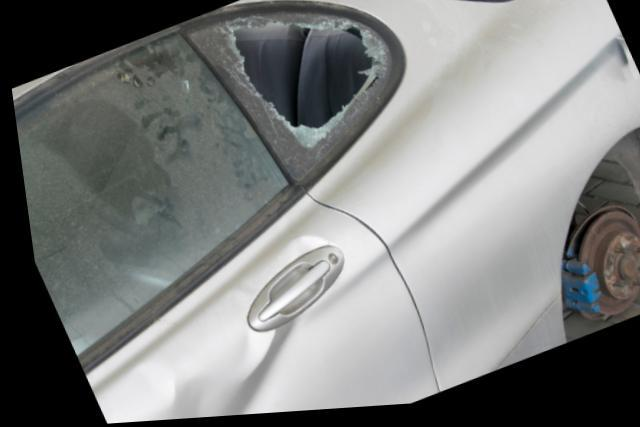dent: (130, 322, 301, 422)
glass shatter: (185, 13, 391, 184)
